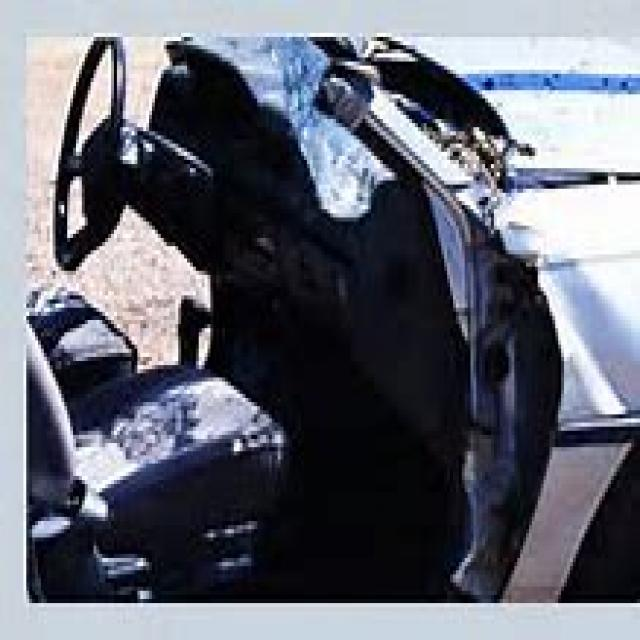Accident: (64, 47, 640, 525)
